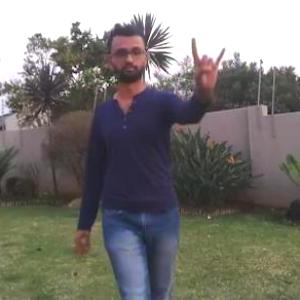takeoff-hand: (178, 28, 231, 104)
